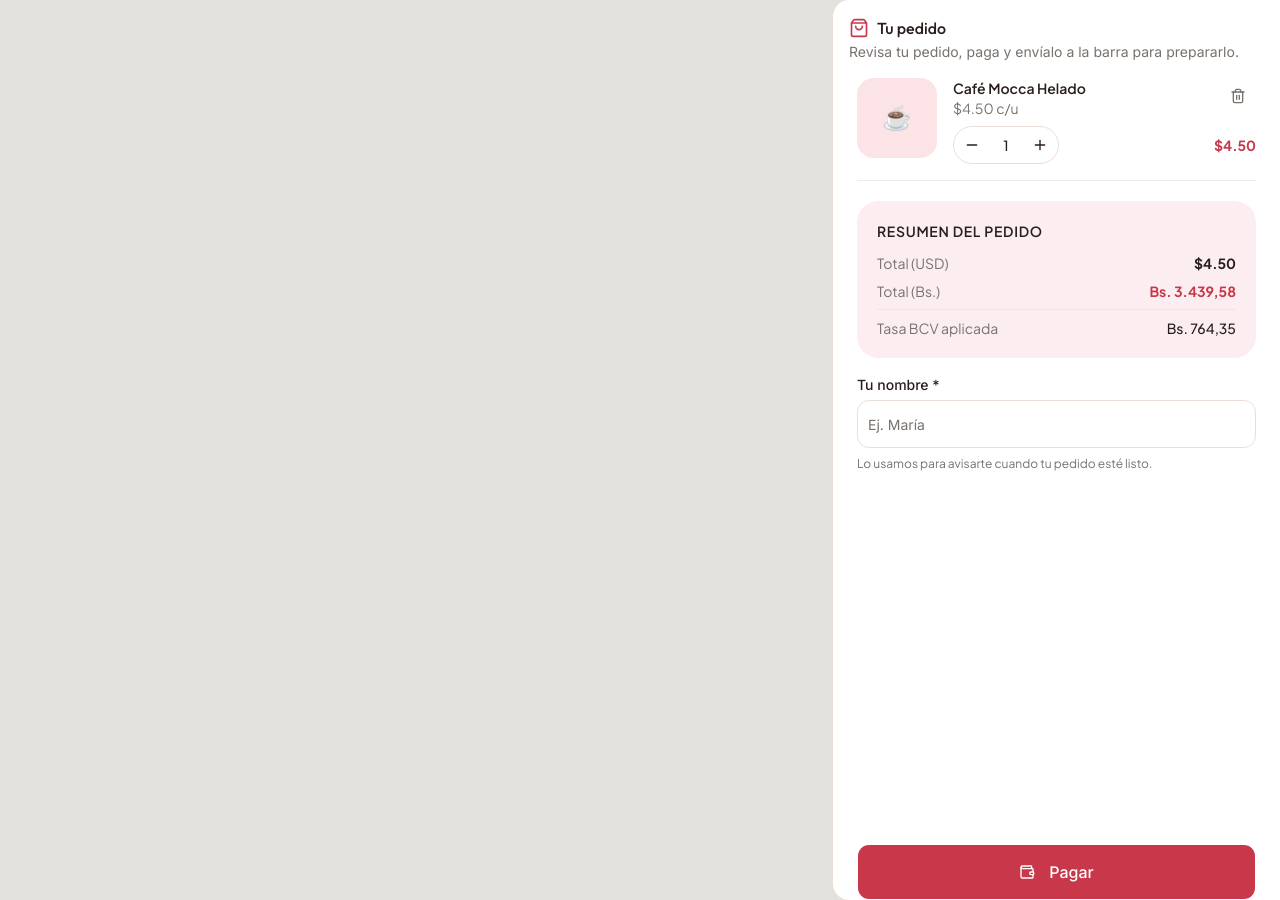
Test: CartDrawer › envía directo con Efectivo sin comprobante y con pago pendiente
Type "Pedro" into the field labelled "Tu nombre *" at (1056, 424), box x1=857 y1=400 x2=1256 y2=448
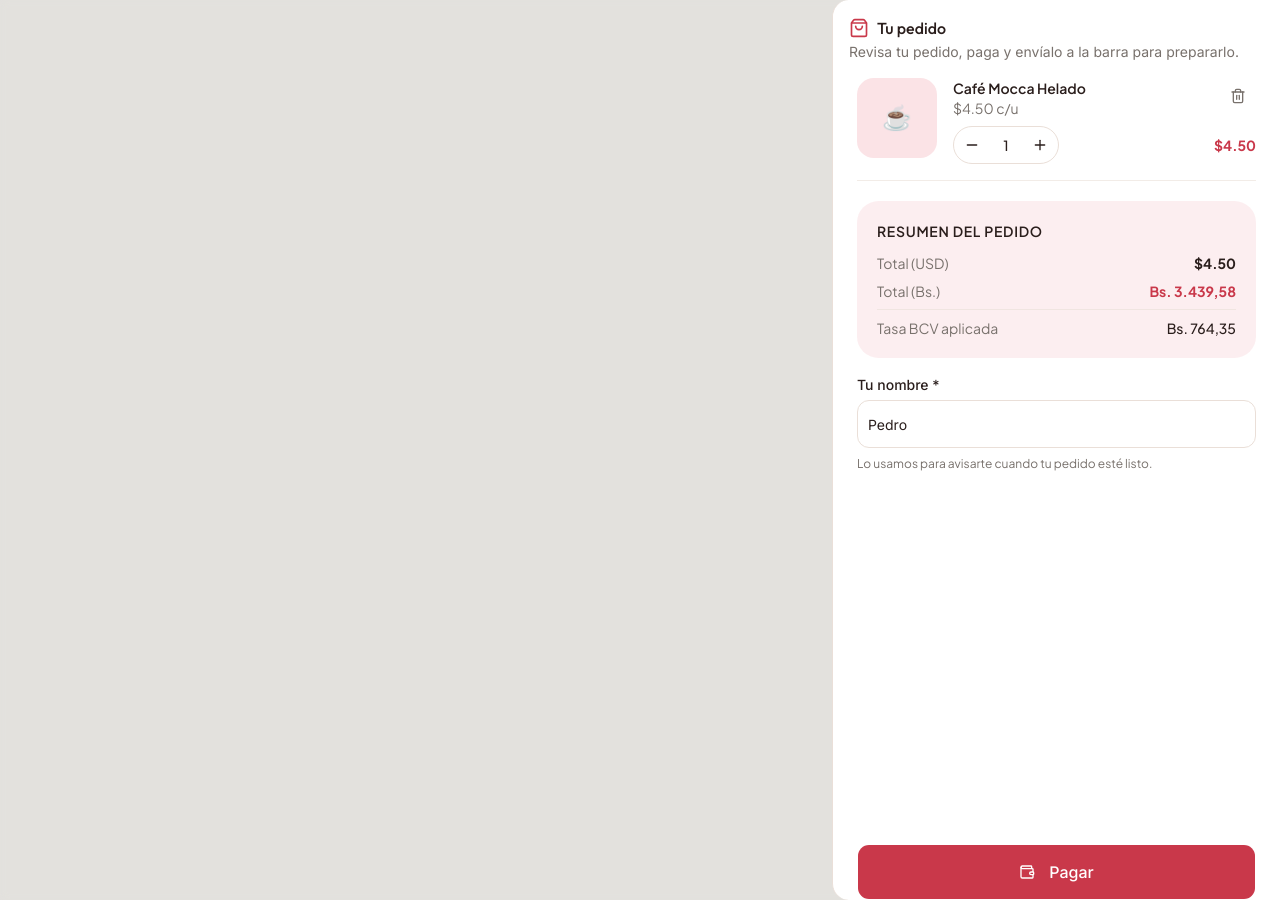
Click the button "Pagar" at (1056, 872), box x1=857 y1=844 x2=1256 y2=899
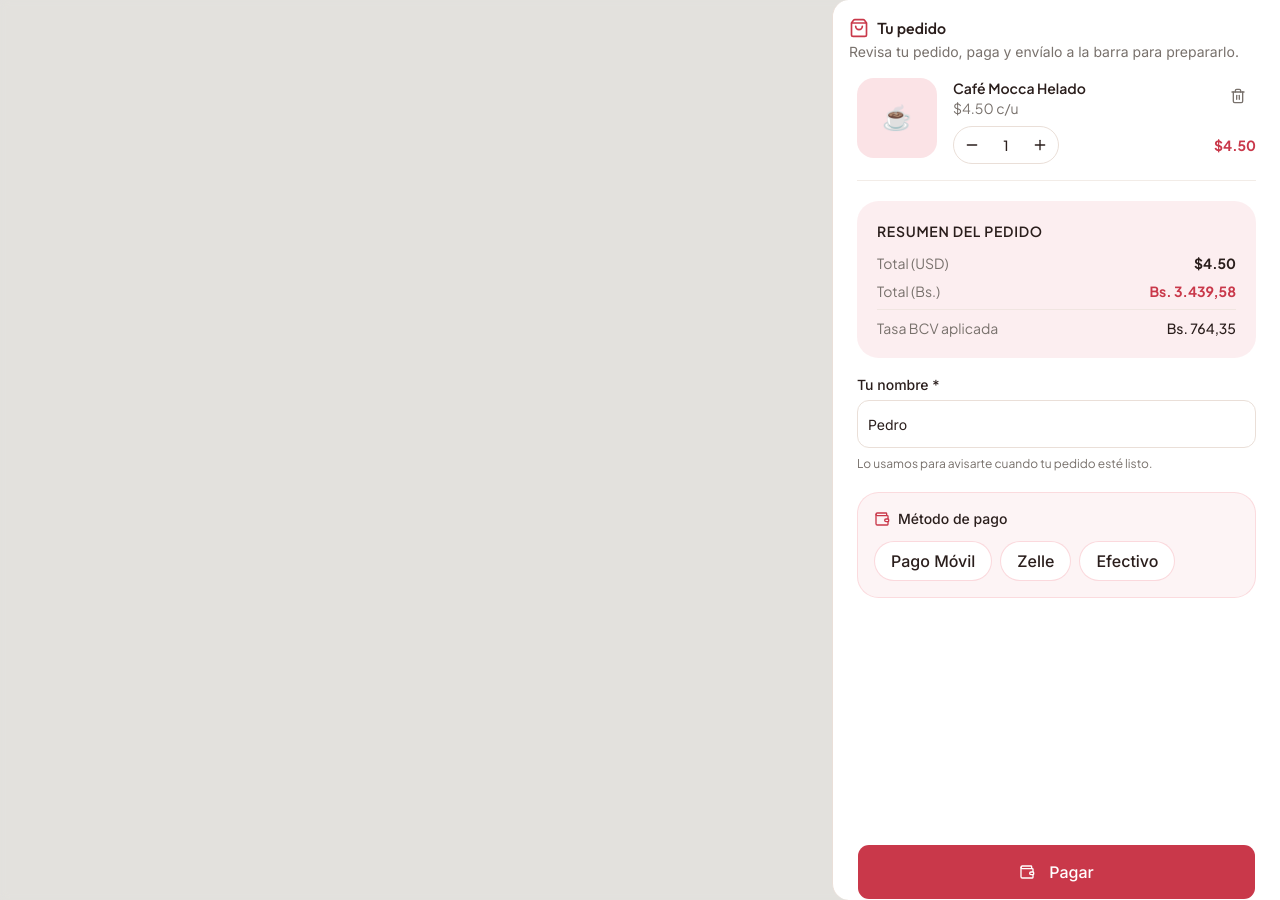
Click the button "Efectivo" at (1128, 561), box x1=1080 y1=541 x2=1176 y2=581
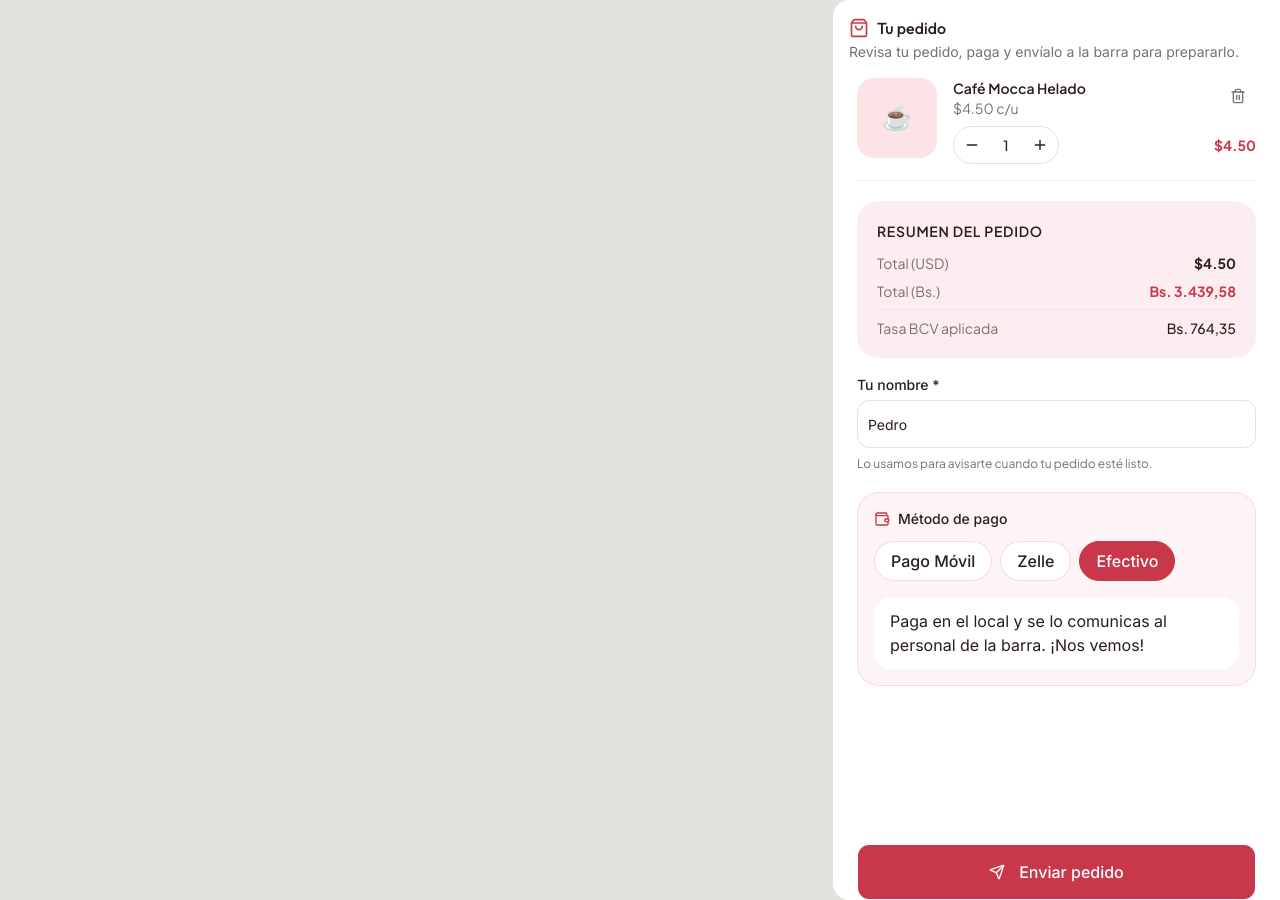
Now the text "Paga en el local" is shown, box x1=890 y1=611 x2=1167 y2=655
Click the button "Enviar pedido" at (1056, 872), box x1=857 y1=844 x2=1256 y2=899
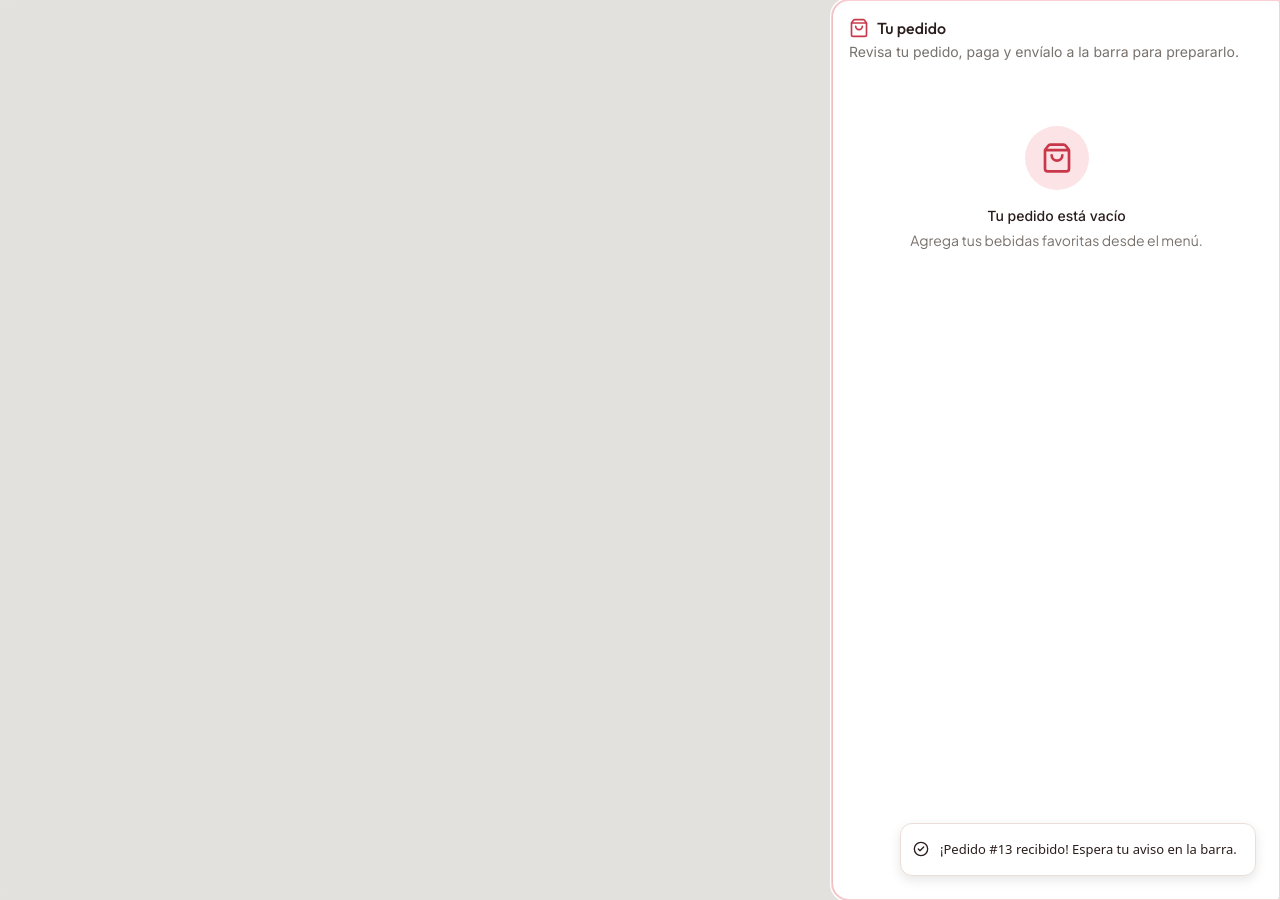
Now the text "¡Pedido #13 recibido! Espera tu aviso en la barra." is shown, box x1=940 y1=840 x2=1237 y2=859
